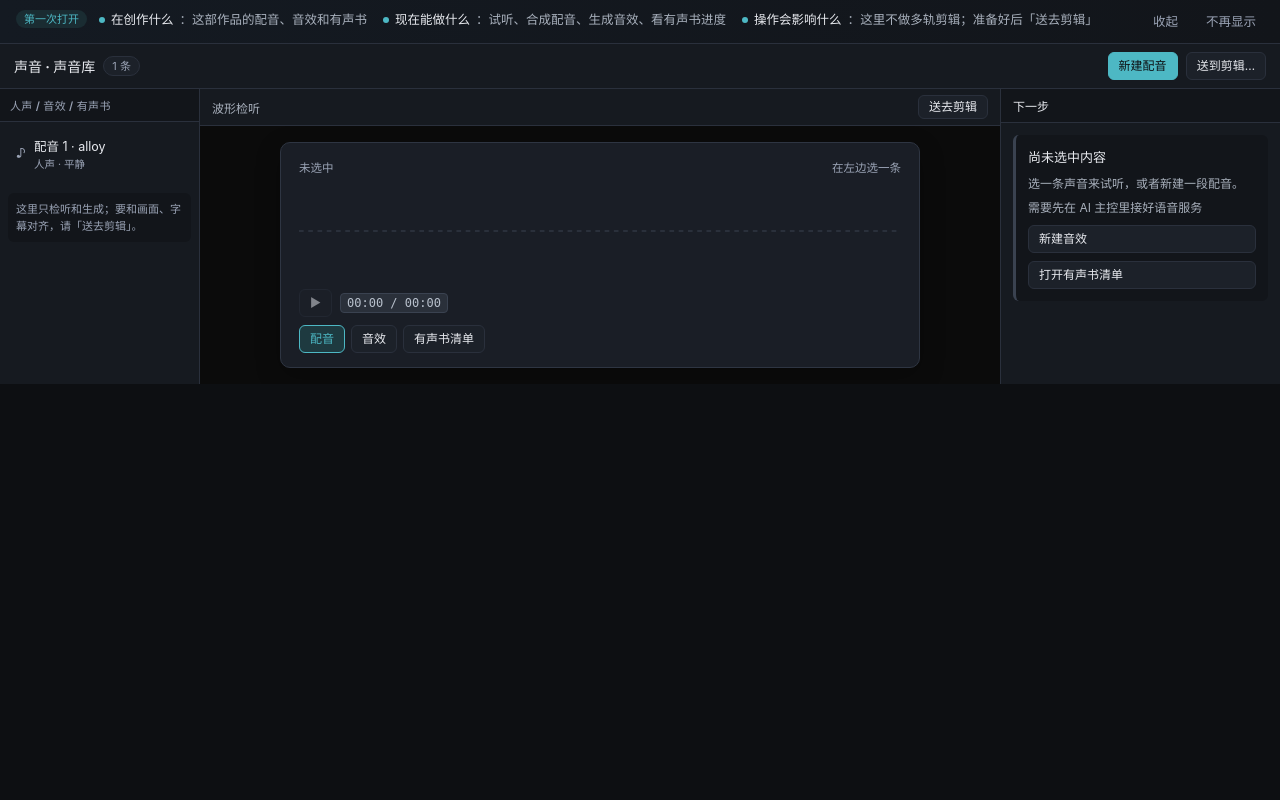
Test case: AudioRebuild › selected item: 送到剪辑… becomes primary; TTS disabled with reason when no provider
Click the option "♪ 配音 1 · alloy 人声 · 平静" at point(100, 154), box x1=8 y1=130 x2=191 y2=177
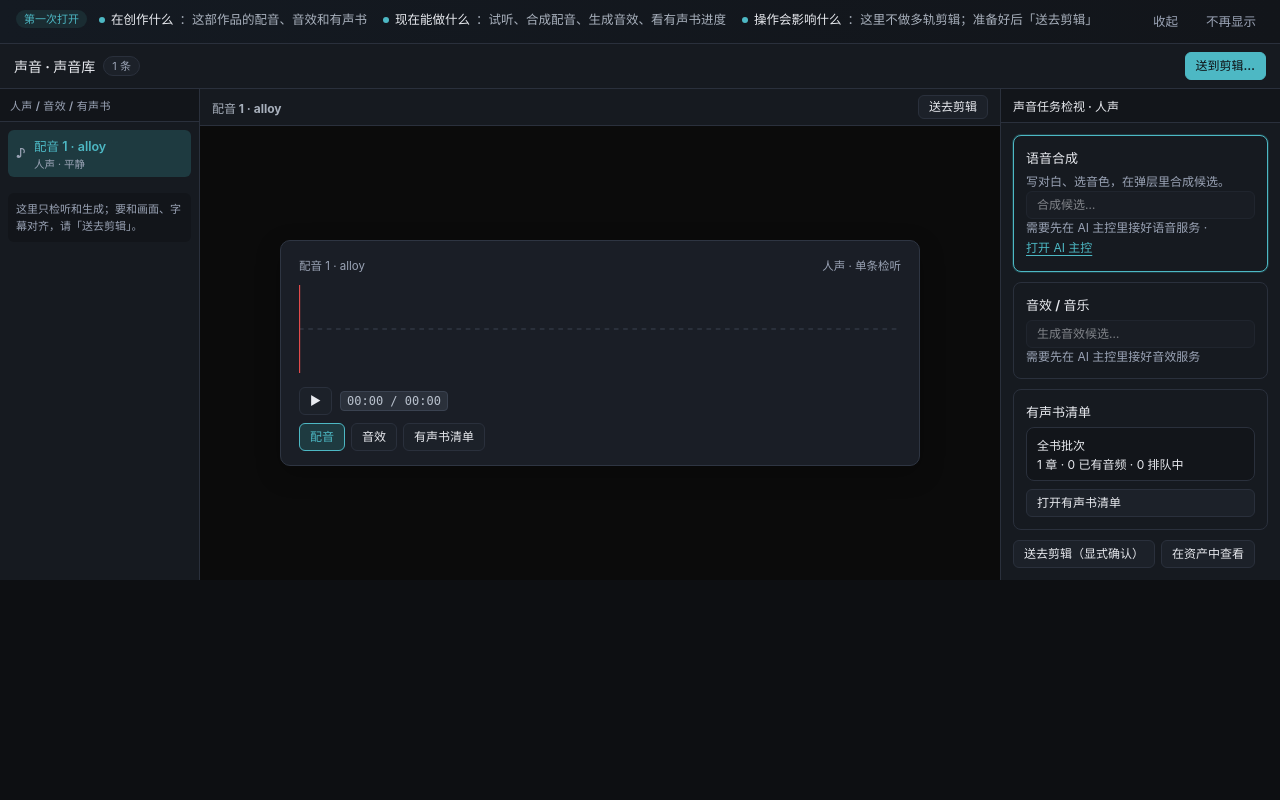
Result: the button with id "ttsGo" is disabled at x1=1026 y1=191 x2=1255 y2=219
Result: the element showing "需要先在 AI 主控里接好语音服务 · 打开 AI 主控" is shown at x1=1026 y1=220 x2=1207 y2=259
Result: the text "全书批次 1 章 · 0 已有音频 · 0 排队中" is shown at x1=1026 y1=427 x2=1255 y2=481
